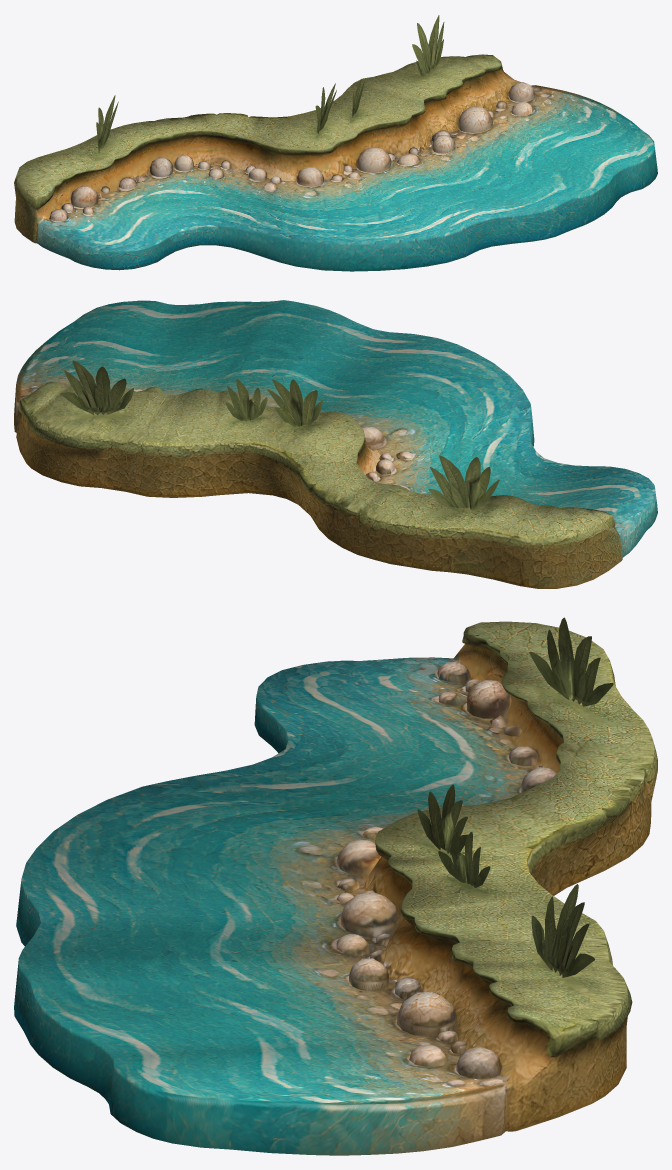
The picture shows the model from 3 angles, top to bottom: view 1: azimuth 30°, elevation 25°; view 2: azimuth 150°, elevation 25°; view 3: azimuth 270°, elevation 25°; orthographic projection. The views are drawn at different scales.
Parts seen in each view (by area): view 1: tripo_node_9a35178f-28f2-4d19-ab3c-602488eb6b88; view 2: tripo_node_9a35178f-28f2-4d19-ab3c-602488eb6b88; view 3: tripo_node_9a35178f-28f2-4d19-ab3c-602488eb6b88.
Boxes of the visible parts, bbox=[...] form: tripo_node_9a35178f-28f2-4d19-ab3c-602488eb6b88: bbox=[14, 15, 657, 271]; tripo_node_9a35178f-28f2-4d19-ab3c-602488eb6b88: bbox=[14, 300, 657, 588]; tripo_node_9a35178f-28f2-4d19-ab3c-602488eb6b88: bbox=[14, 617, 657, 1155].
Bounding box in the file's own units: 0.9995 × 0.1724 × 0.5894.
Materials: 1 (1 with a texture image).
